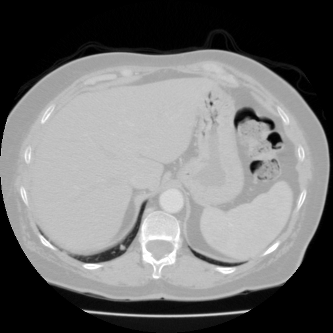nodule: (119, 244, 125, 250)
